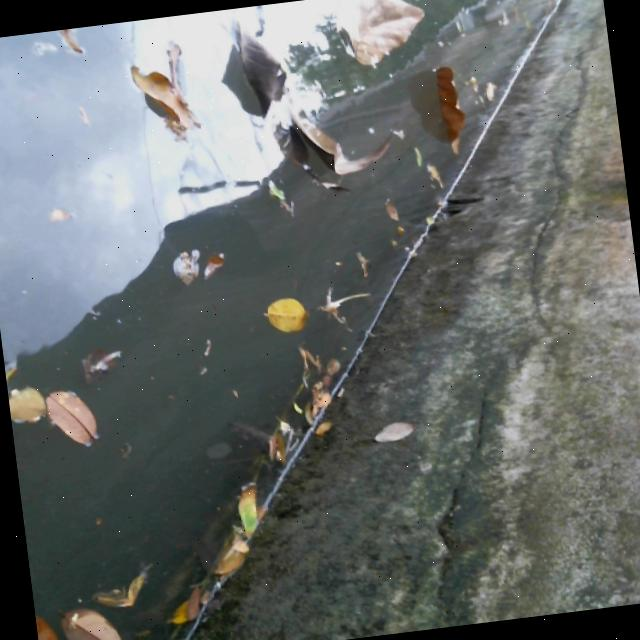Big-leaf: (231, 0, 390, 192), (116, 32, 213, 174), (323, 0, 440, 71), (424, 62, 474, 162)
Small-leaf: (39, 373, 113, 463), (219, 475, 264, 552), (90, 571, 163, 614), (3, 361, 46, 434), (254, 288, 311, 340), (57, 600, 127, 640), (161, 242, 208, 297), (74, 342, 129, 385), (203, 543, 254, 589), (51, 26, 95, 67), (195, 246, 236, 281), (33, 606, 70, 640), (375, 193, 401, 223)
